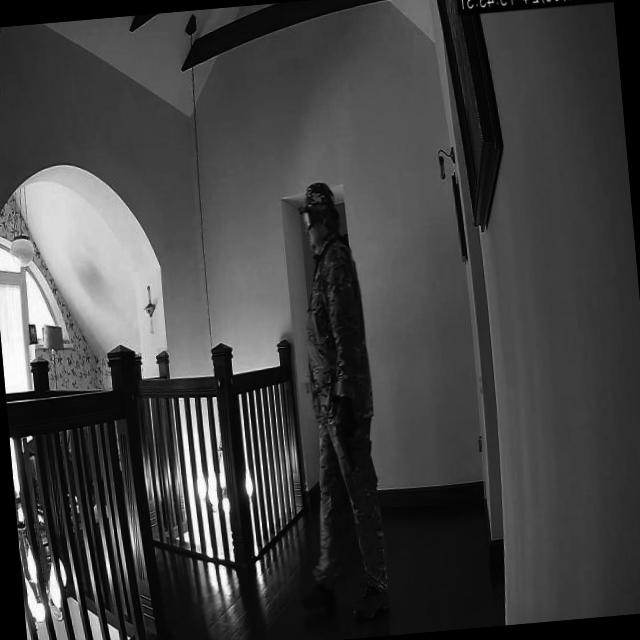gun: (332, 406, 362, 471)
person: (264, 168, 388, 628)
